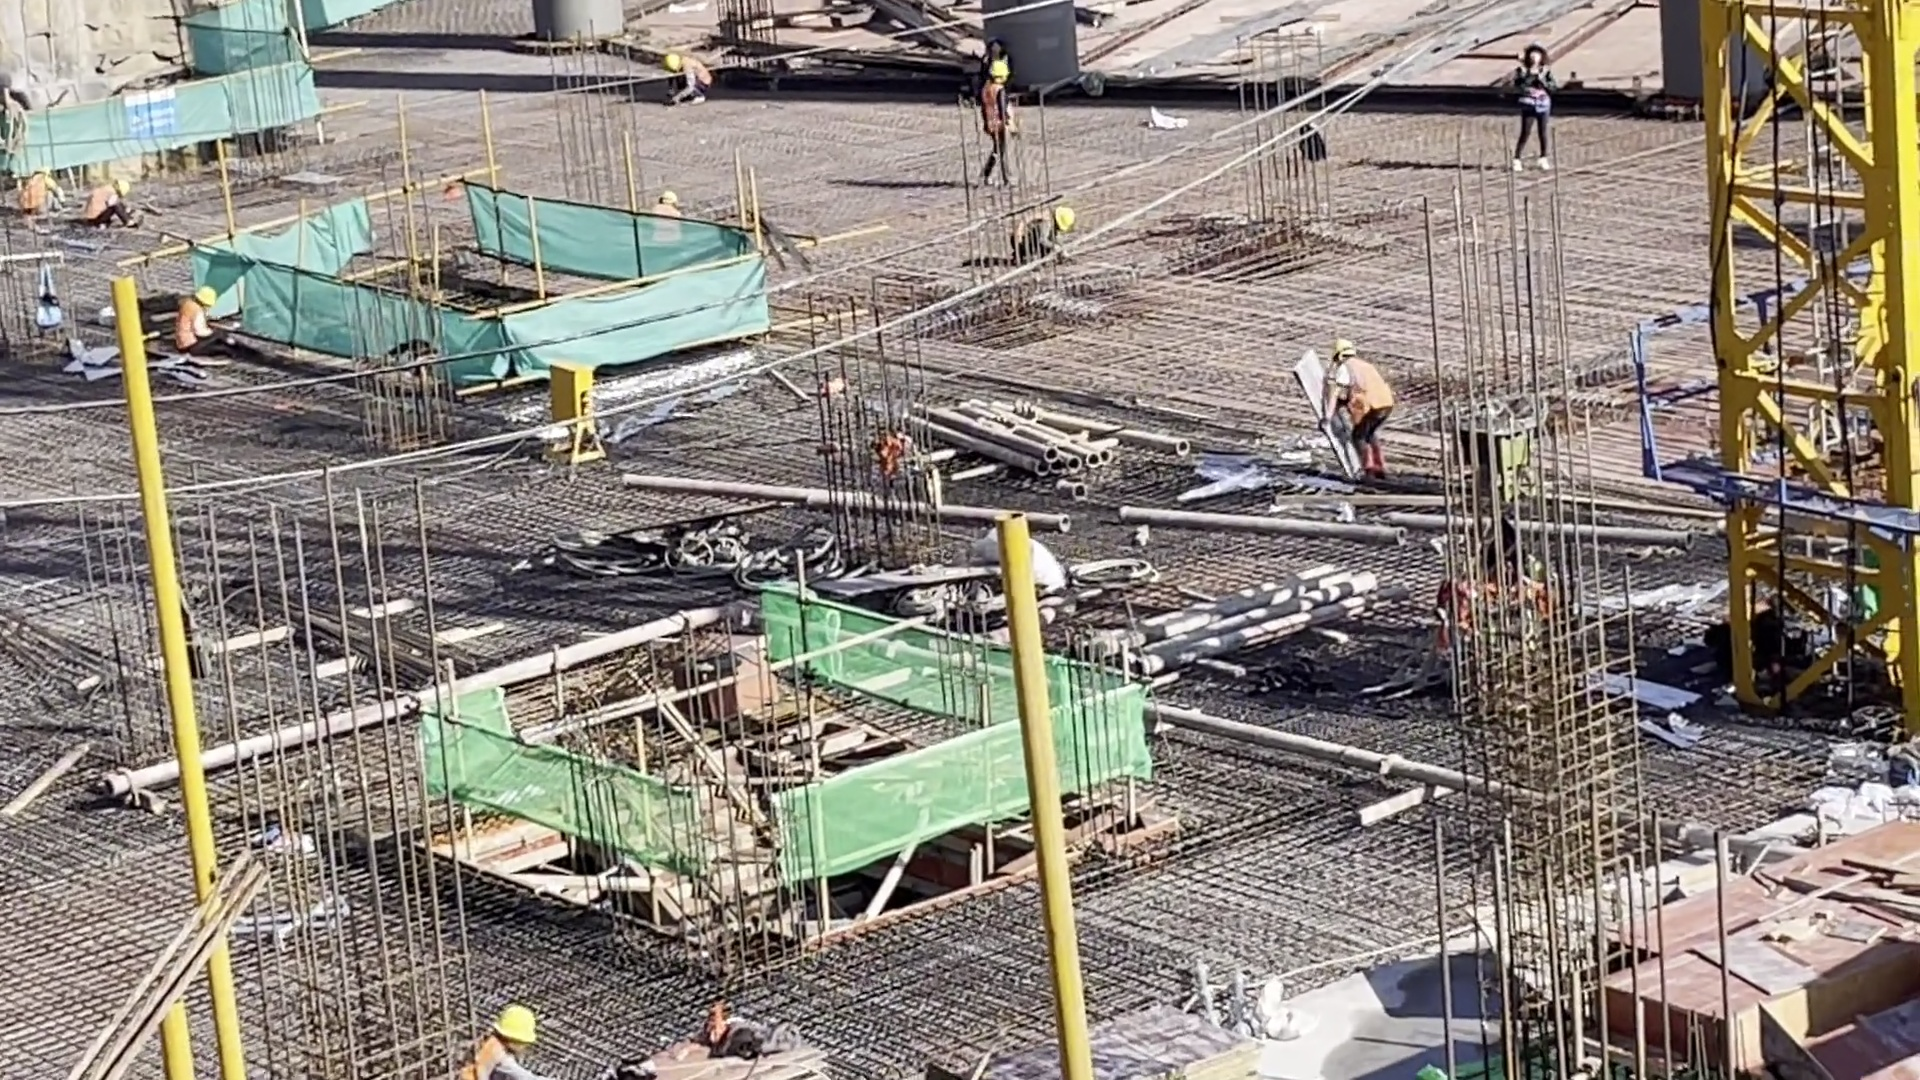helmet: (491, 1002, 536, 1051), (1326, 338, 1356, 361), (1054, 203, 1072, 229), (194, 283, 214, 305), (116, 178, 129, 198), (659, 190, 677, 203)
person: (1310, 335, 1391, 486), (454, 1001, 547, 1080), (975, 61, 1026, 194), (1511, 38, 1555, 174), (175, 280, 244, 363), (1000, 201, 1075, 264), (86, 174, 136, 231), (658, 53, 712, 104), (18, 167, 62, 230), (652, 191, 689, 249), (982, 39, 1008, 71)
vest: (1342, 360, 1390, 423), (1519, 69, 1549, 116), (1013, 212, 1047, 246), (983, 86, 1006, 134), (179, 297, 203, 344), (654, 204, 679, 241), (88, 187, 114, 220), (23, 178, 46, 210), (682, 61, 709, 85)
